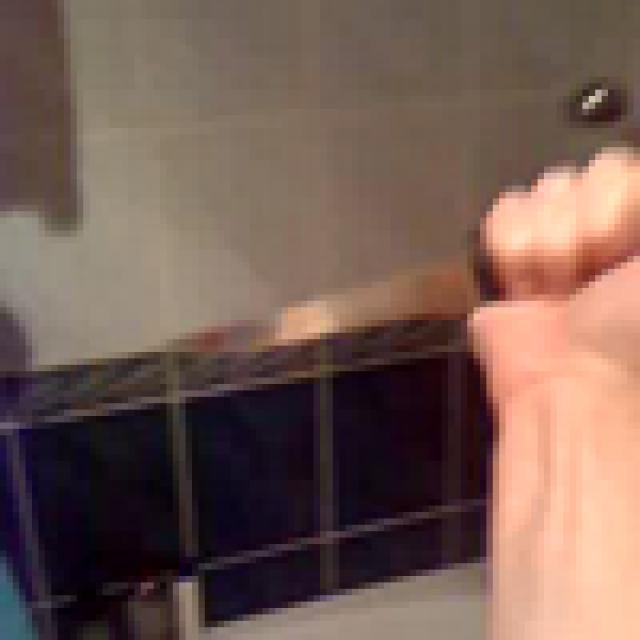Knife: (141, 77, 595, 410)
